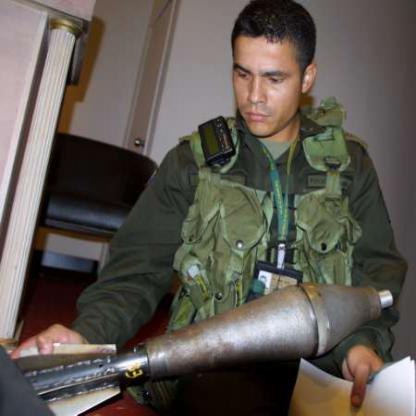face: (233, 11, 305, 140)
